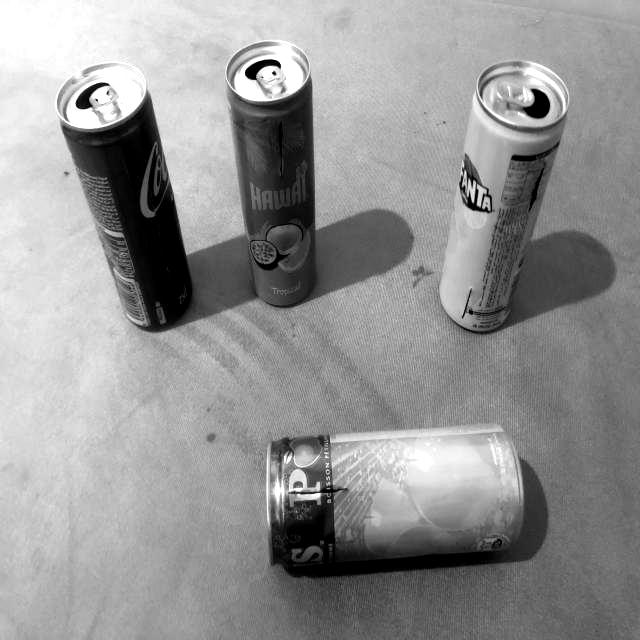cut: (149, 208, 181, 314), (517, 153, 552, 237), (282, 474, 355, 510), (269, 116, 293, 191), (456, 273, 478, 330)
metal: (266, 426, 522, 570), (57, 63, 191, 330), (439, 61, 566, 331), (226, 40, 316, 306)
